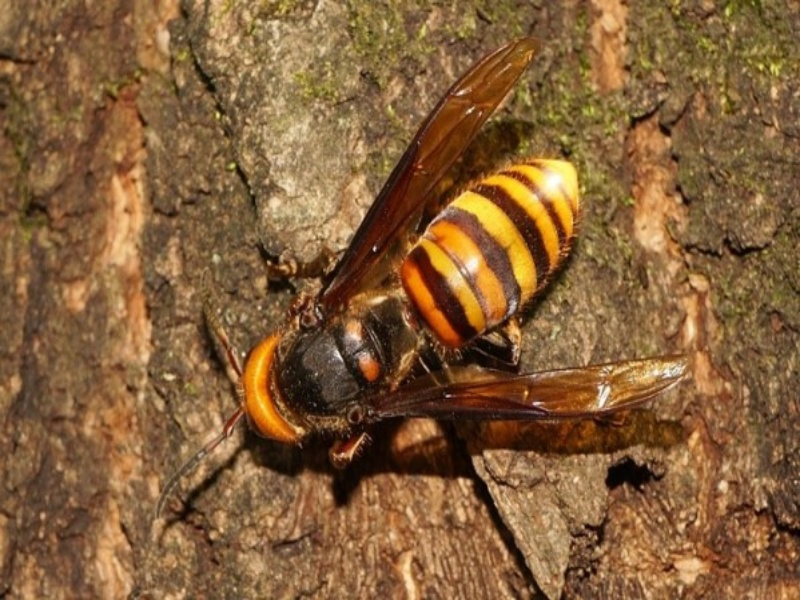asian_giant_hornet: (220, 156, 580, 459)
